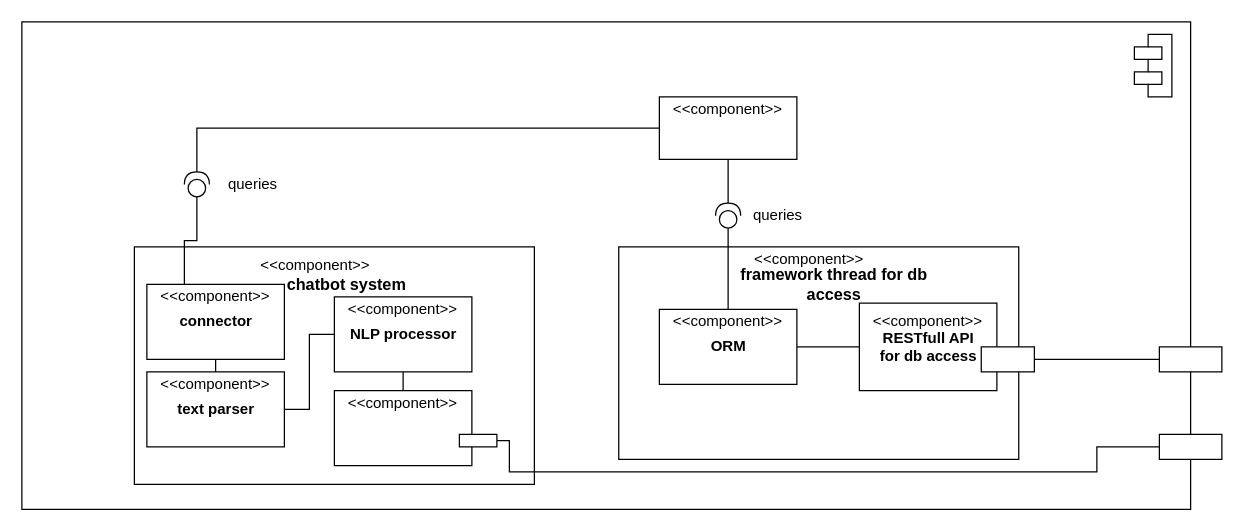
The diagram is 1244 pixels wide and 531 high, and some of its shapes have lost their labels. Here are the shapes that lost their labels. From the top down, the box of each, then its label:
(658, 96, 797, 159): Database
(333, 389, 472, 466): chatbot RESTfull API
